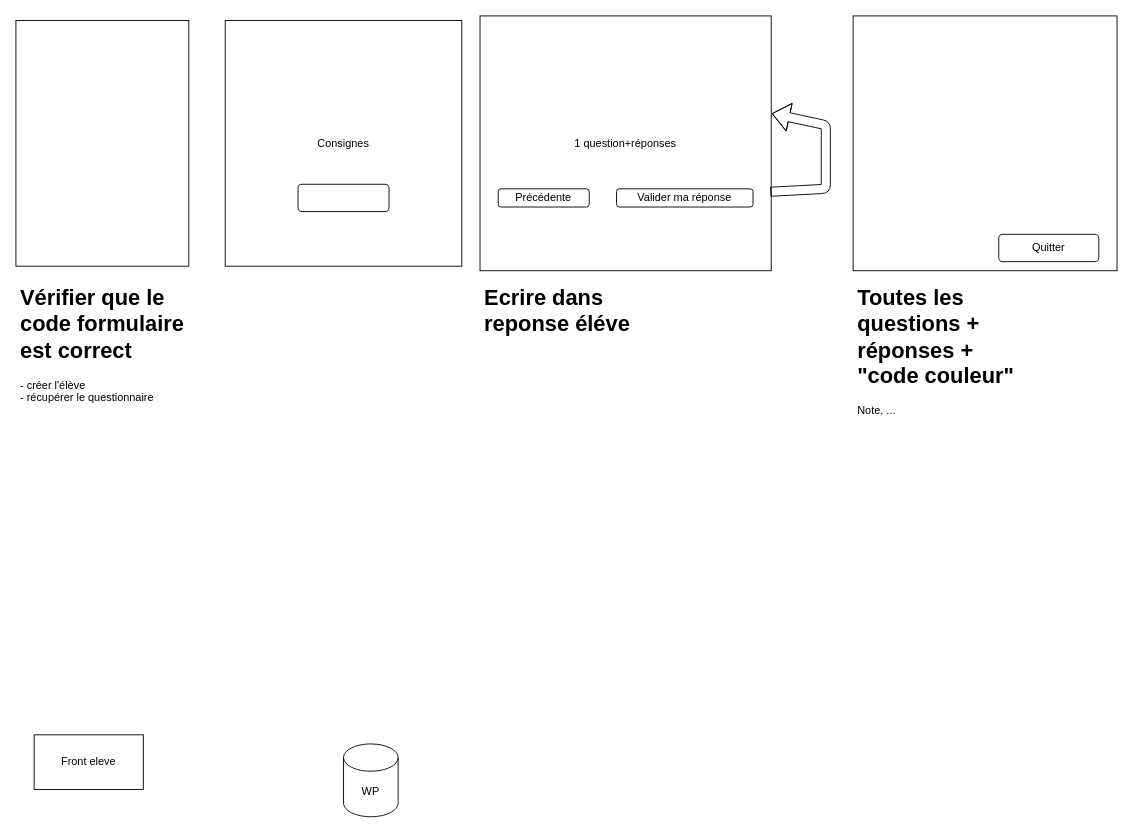
The diagram is 1133 pixels wide and 833 high, and some of its shapes have lost their labels. Each missing label, with the box of its shape:
Commencer: (297, 183, 389, 212)
Identification: (15, 20, 189, 266)
Résultats: (852, 15, 1117, 271)
